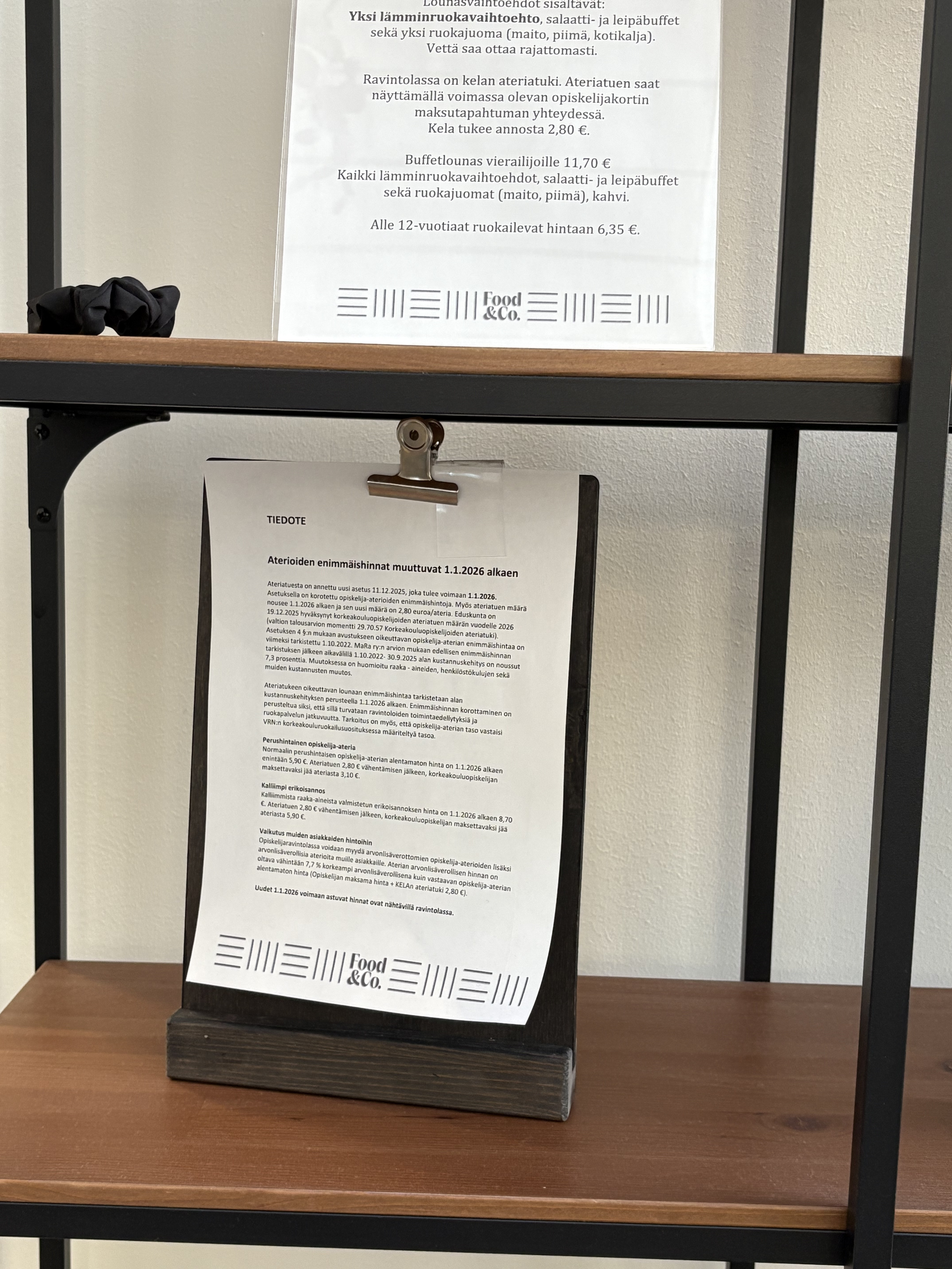paper: (179, 6, 727, 1028)
